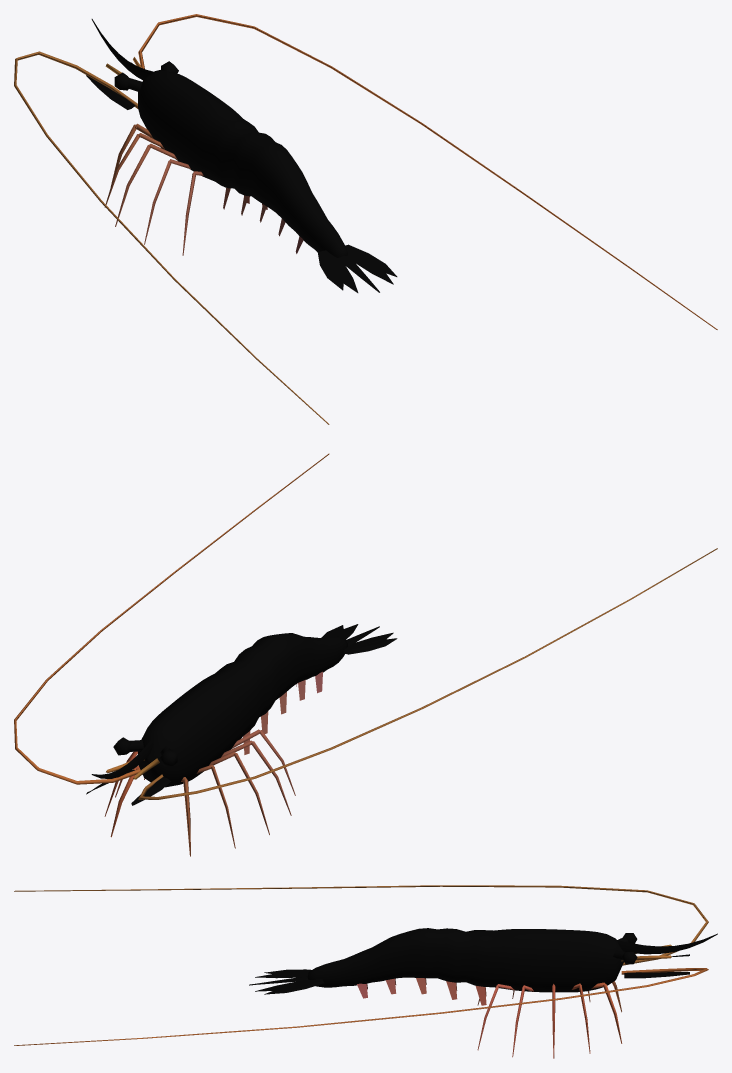
The model's file is spot_prawn_lo.glb.
The picture shows the model from 3 angles, top to bottom: view 1: azimuth 30°, elevation 25°; view 2: azimuth 150°, elevation 25°; view 3: azimuth 270°, elevation 25°; orthographic projection. The views are drawn at different scales.
Parts seen in each view (by area): view 1: spot_prawn_lo; view 2: spot_prawn_lo; view 3: spot_prawn_lo.
Part boxes in pixels (x1,y1,x2,y2): spot_prawn_lo: (14,14,717,424); spot_prawn_lo: (14,453,717,856); spot_prawn_lo: (14,885,717,1058).
Size of the model in its own units: 0.1564 by 0.0465 by 0.3001.
